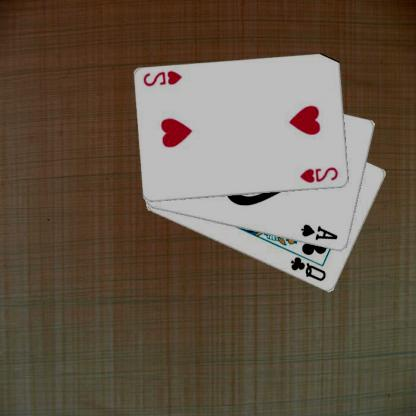2H: (142, 68, 186, 88), (300, 165, 342, 184)
AS: (300, 222, 341, 242)
QC: (289, 254, 330, 283)
